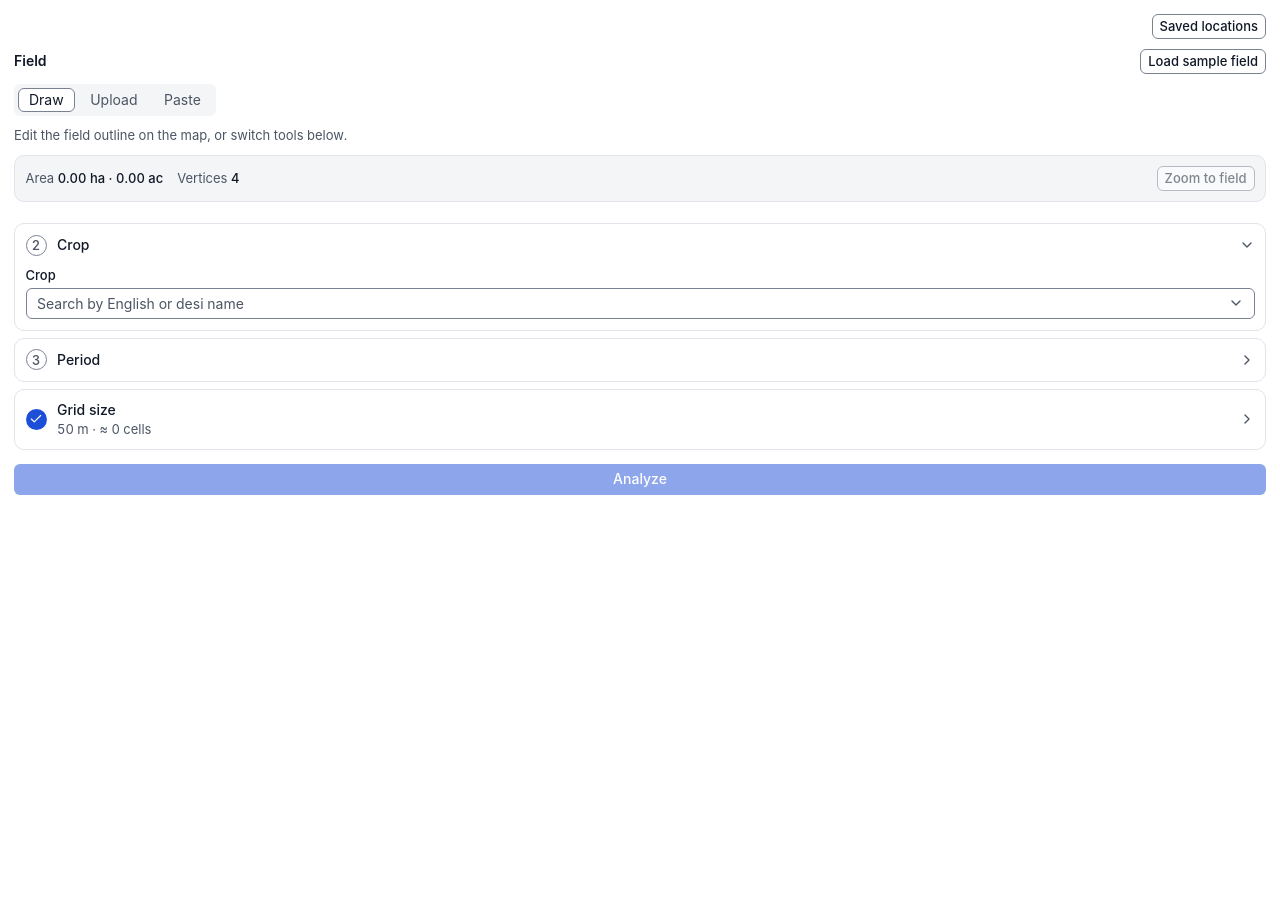
Test case: SetupSlot › saved locations › saves the current field under a name and lists it
Later steps or results of the test are not shown.
Click the button "Saved locations" at (1209, 26), box [1152,14,1266,38]
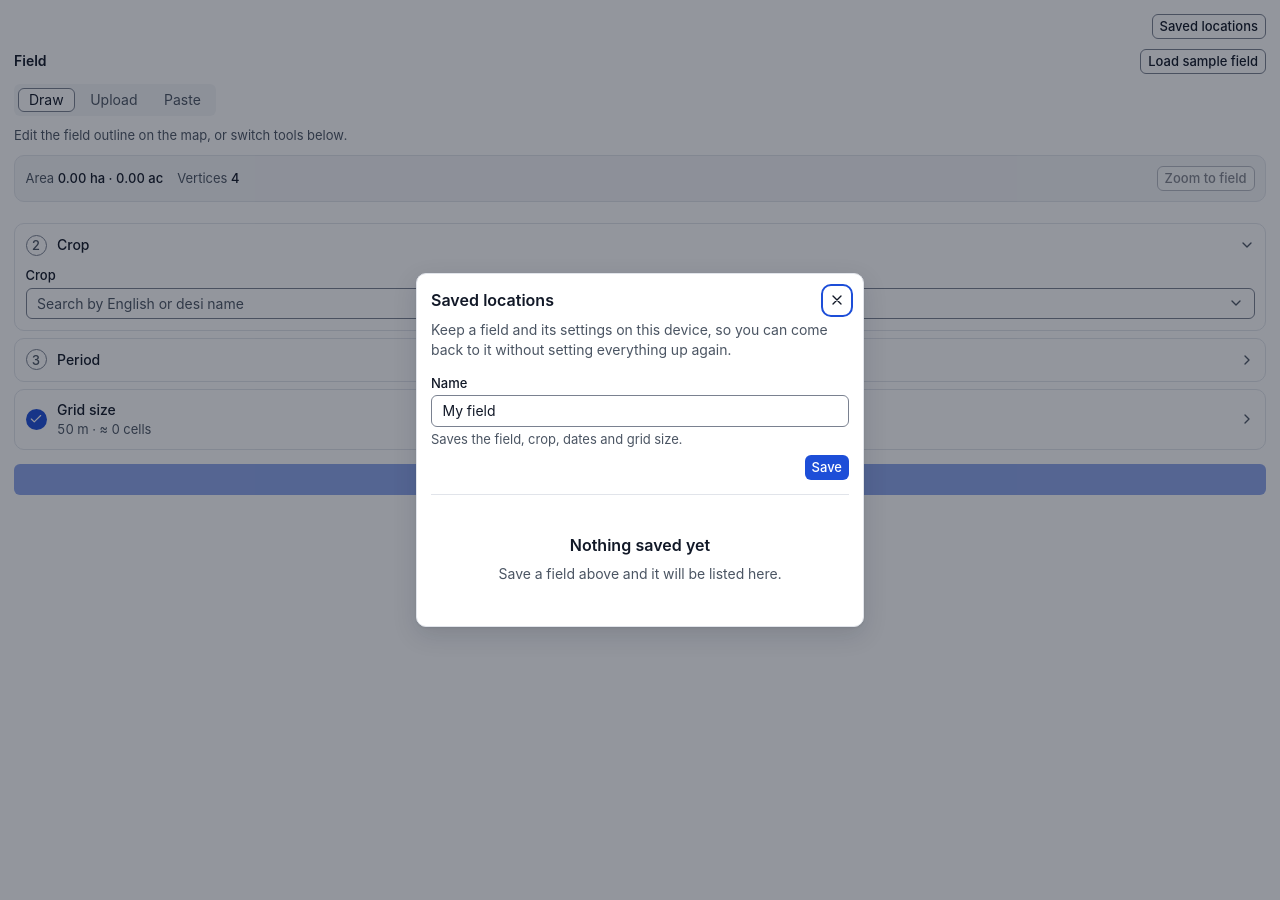
Replace the text in the field labelled "Name" with "Home field" at (640, 411), box [431,395,849,426]
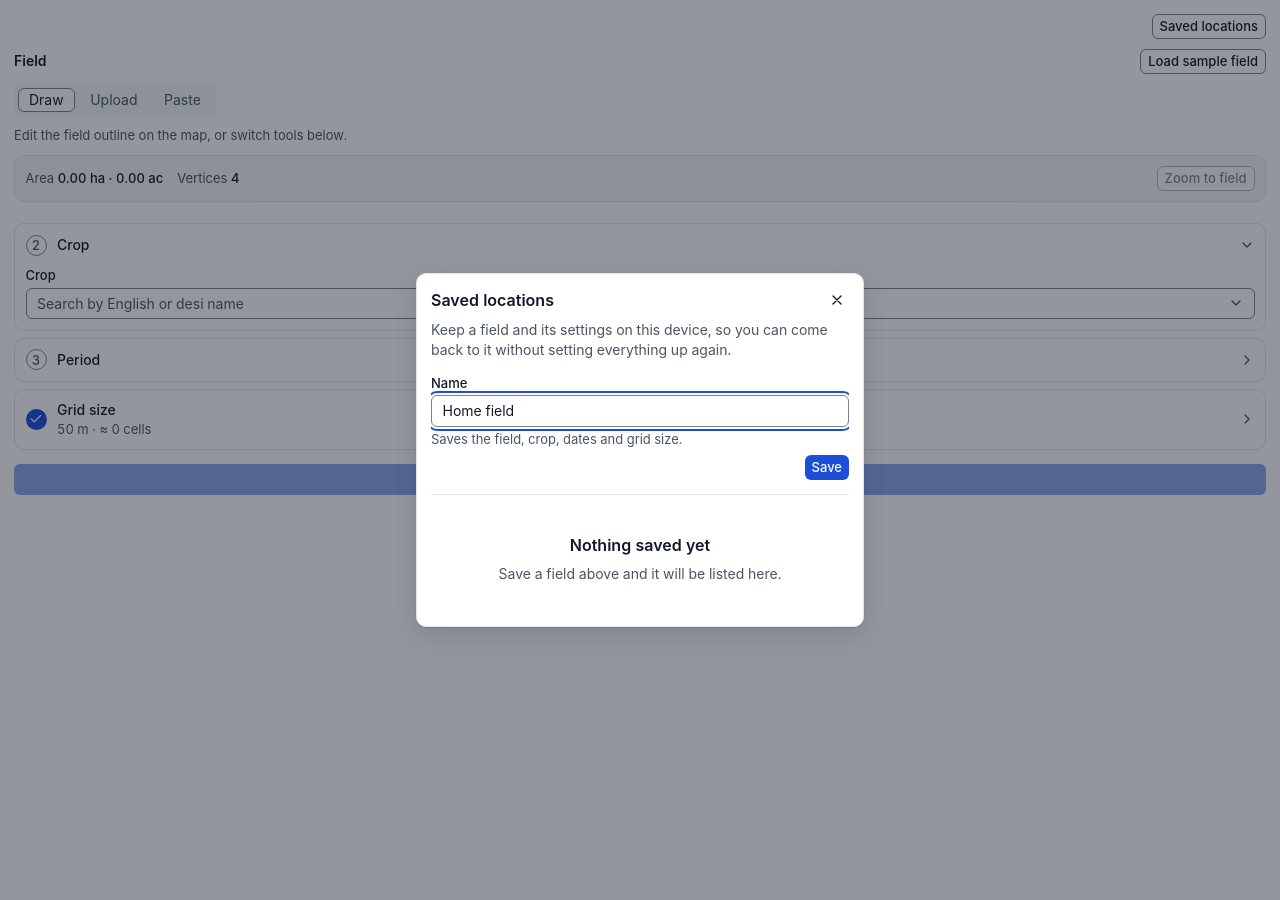
Click the button "Save" at (827, 467), box [805,455,849,480]
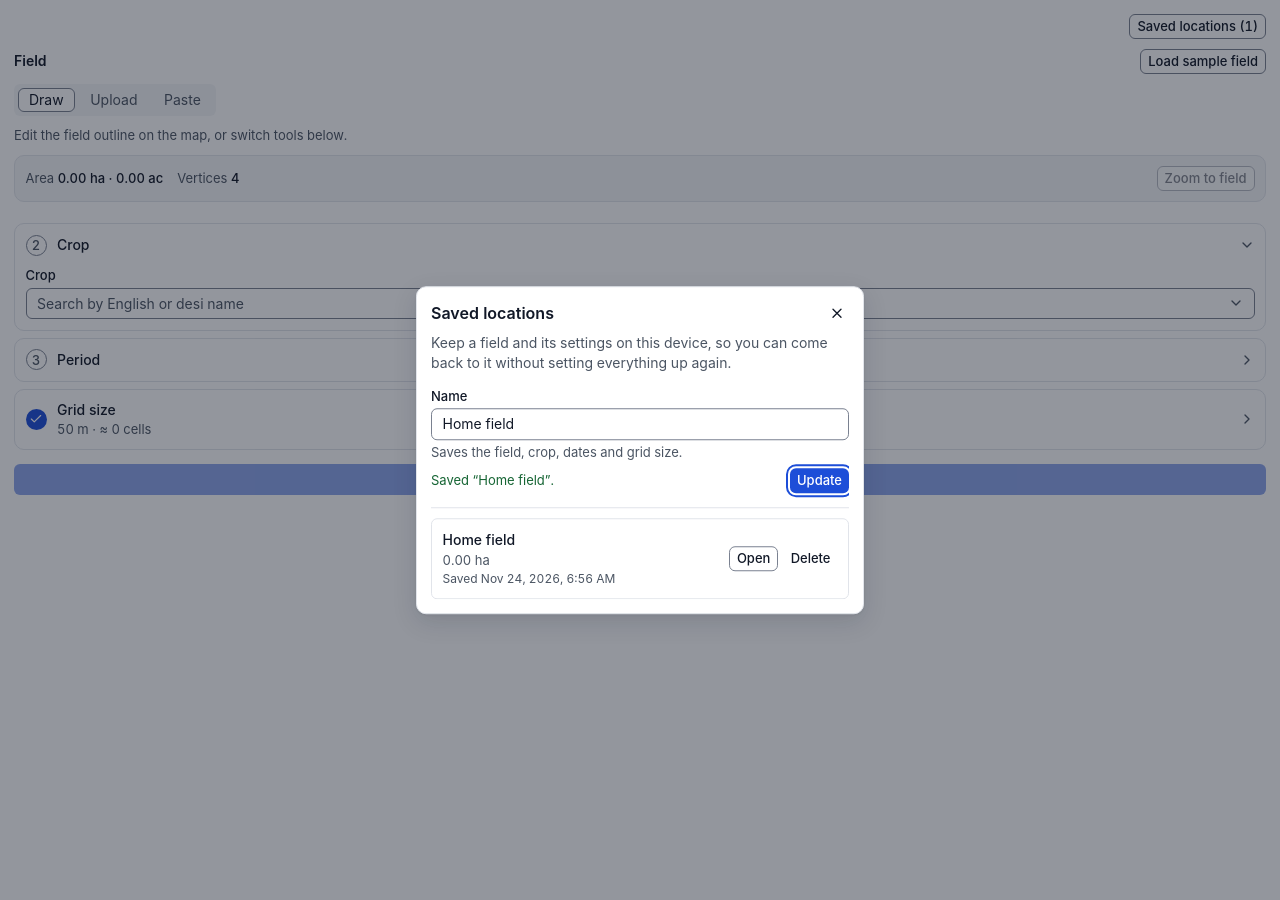
Expected: the button with aria-label "Open Home field" is shown, [729,546,778,571]
